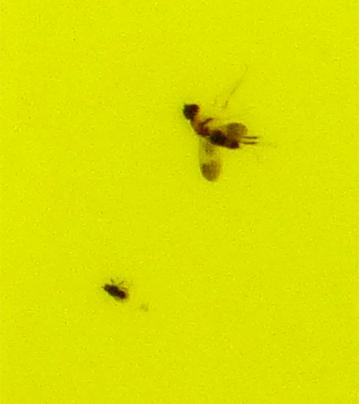Brachycera: (179, 100, 259, 183), (100, 277, 131, 304)
